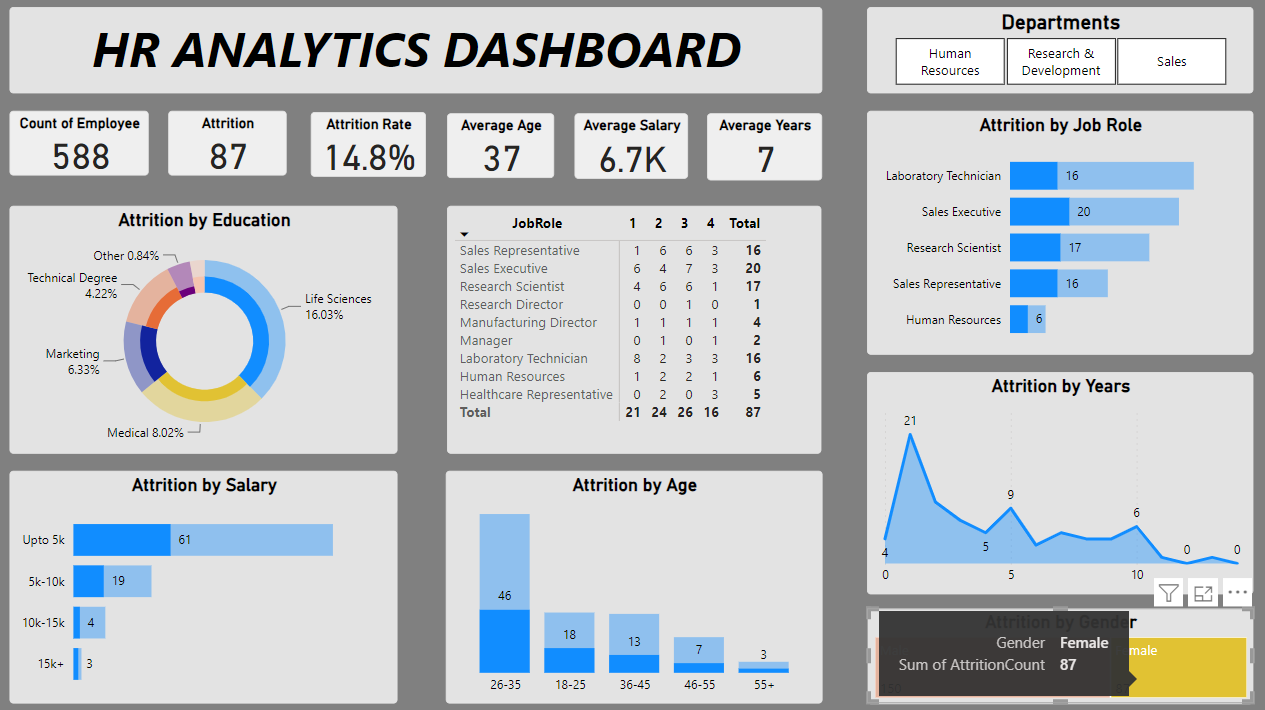

The dashboard page shown, as its layout file describes it:
{"tool":"powerbi","page":{"name":"Page 1","canvas":[1280,720],"ordinal":0},"visuals":[{"type":"card","title":"Count of Employee","fields":{"Values":["CountNonNull(HR_Analytics.EmpID)"]},"box":[17,113.8,139.4,64.9],"z":0},{"type":"card","title":"Attrition","fields":{"Values":["Sum(HR_Analytics.AttritionCount)"]},"box":[176.6,113.8,118.1,64.9],"z":1000},{"type":"card","title":"Attrition Rate","fields":{"Values":["HR_Analytics.AttritionRate"]},"box":[319.1,114.9,114.9,64.9],"z":2000},{"type":"card","title":"Average Age ","fields":{"Values":["Avg(HR_Analytics.Age)"]},"box":[455.3,116,107.4,64.9],"z":3000},{"type":"card","title":"Average Salary","fields":{"Values":["Avg(HR_Analytics.MonthlyIncome)"]},"box":[583,116,113.8,66],"z":4000},{"type":"card","title":"Average Years ","fields":{"Values":["Avg(HR_Analytics.YearsAtCompany)"]},"box":[714.9,116,114.9,67],"z":5000},{"type":"donutChart","title":"Attrition by Education","fields":{"Category":["HR_Analytics.EducationField"],"Y":["Sum(HR_Analytics.AttritionCount)"]},"box":[17,208.5,388.3,247.9],"z":6000},{"type":"columnChart","title":"Attrition by Age","fields":{"Category":["HR_Analytics.AgeGroup"],"Y":["Sum(HR_Analytics.AttritionCount)"]},"box":[453.2,473.4,376.6,233],"z":7000},{"type":"pivotTable","fields":{"Rows":["HR_Analytics.JobRole"],"Columns":["HR_Analytics.JobSatisfaction"],"Values":["Sum(HR_Analytics.AttritionCount)"]},"box":[455.3,208.5,374.5,247.9],"z":8000},{"type":"barChart","title":"Attrition by Salary","fields":{"Category":["HR_Analytics.SalarySlab"],"Y":["Sum(HR_Analytics.AttritionCount)"]},"box":[17,473.4,388.3,233],"z":9000},{"type":"barChart","title":"Attrition by Job Role","fields":{"Category":["HR_Analytics.JobRole"],"Y":["Sum(HR_Analytics.AttritionCount)"]},"box":[875.5,113.8,386.2,243.6],"z":10000},{"type":"areaChart","title":"Attrition by Years","fields":{"Category":["HR_Analytics.YearsAtCompany"],"Y":["Sum(HR_Analytics.AttritionCount)"]},"box":[875,375,386.2,222.5],"z":11000},{"type":"treemap","title":"Attrition by Gender","fields":{"Group":["HR_Analytics.Gender"],"Values":["Sum(HR_Analytics.AttritionCount)"]},"box":[875.5,610.6,386.2,95.7],"z":12000},{"type":"slicer","title":"Departments","fields":{"Values":["HR_Analytics.Department"]},"box":[875.5,9.6,386.2,86.2],"z":13000},{"type":"textbox","box":[17,9.6,812.8,86.2],"z":14000}]}

Visuals, with their boxes in screenshot pixels (x1, y1, x2, y2), scaled from the page's 1280x720 canvas onto the 1265x710 screenshot:
"Count of Employee" card: <region>17, 112, 155, 176</region>
"Attrition" card: <region>175, 112, 291, 176</region>
"Attrition Rate" card: <region>315, 113, 429, 177</region>
"Average Age " card: <region>450, 114, 556, 178</region>
"Average Salary" card: <region>576, 114, 689, 179</region>
"Average Years " card: <region>707, 114, 820, 180</region>
"Attrition by Education" donutChart: <region>17, 206, 401, 450</region>
"Attrition by Age" columnChart: <region>448, 467, 820, 697</region>
pivotTable - HR_Analytics.JobRole x HR_Analytics.JobSatisfaction: <region>450, 206, 820, 450</region>
"Attrition by Salary" barChart: <region>17, 467, 401, 697</region>
"Attrition by Job Role" barChart: <region>865, 112, 1247, 352</region>
"Attrition by Years" areaChart: <region>865, 370, 1246, 589</region>
"Attrition by Gender" treemap: <region>865, 602, 1247, 696</region>
"Departments" slicer: <region>865, 9, 1247, 94</region>
textbox: <region>17, 9, 820, 94</region>
